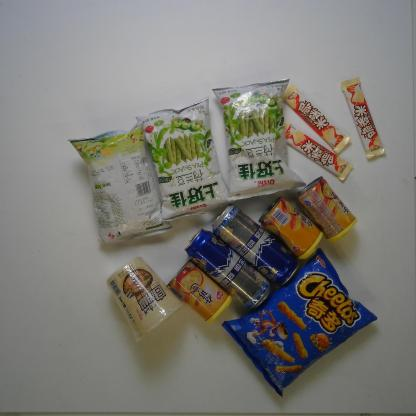Alcohol: (210, 203, 299, 286), (185, 228, 272, 310)
Canned Food: (165, 257, 235, 323), (296, 174, 360, 243), (258, 198, 325, 260)
Chocolate: (282, 85, 352, 154), (280, 124, 353, 180), (343, 76, 386, 162)
Instant Noodles: (106, 255, 184, 340)
Puffed Food: (219, 244, 380, 397), (70, 125, 173, 247), (212, 78, 306, 203), (135, 102, 228, 219)
